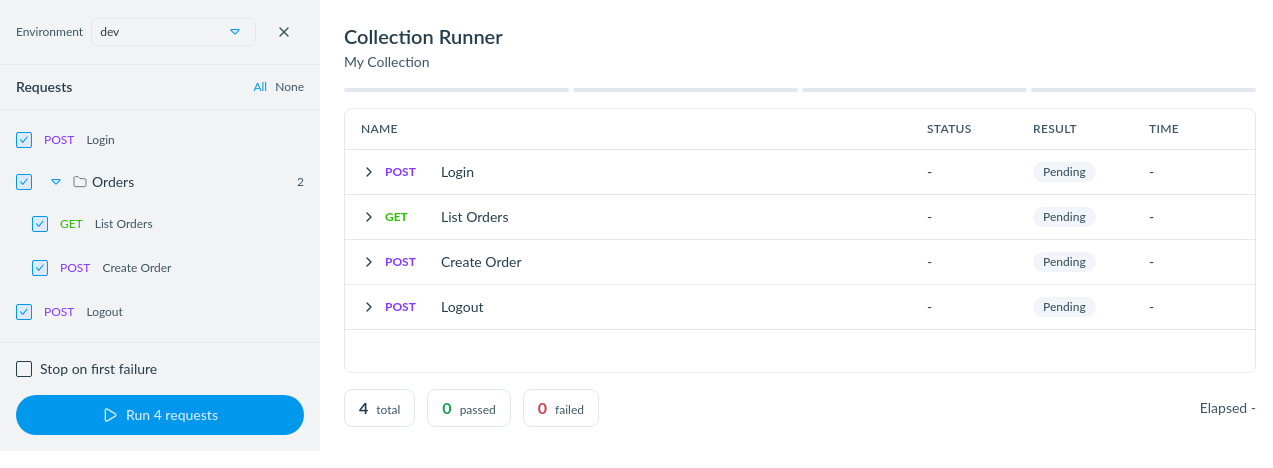
Test case: CollectionRunner selection › toggles all requests of a folder via the folder checkbox
The width and height of the screenshot is (1273, 468).
Click the 2nd checkbox: (24, 182) top-left (16, 174), bottom-right (32, 190)
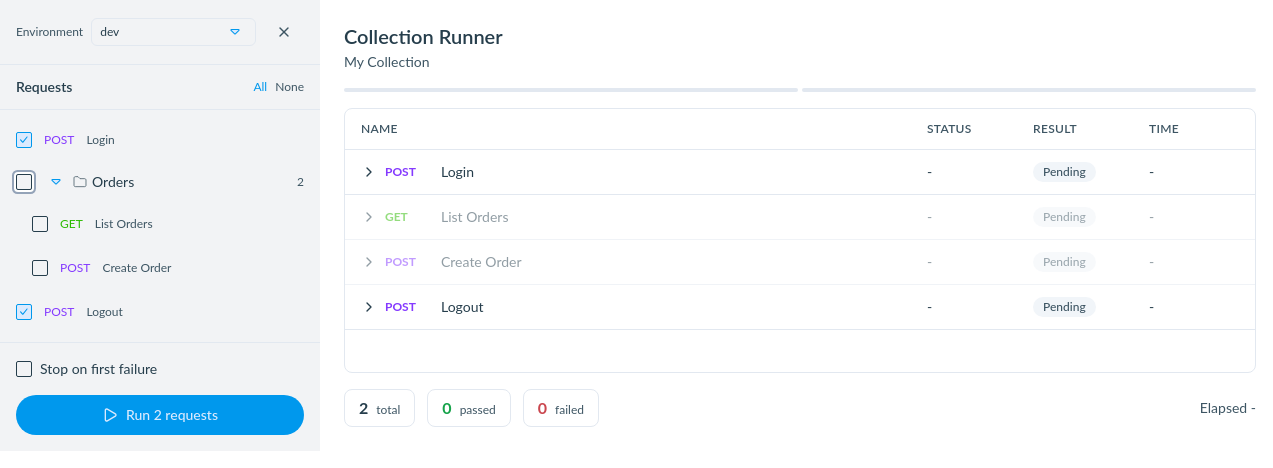
Result: the button "Run 2 requests" is shown at top-left (16, 395), bottom-right (304, 435)
